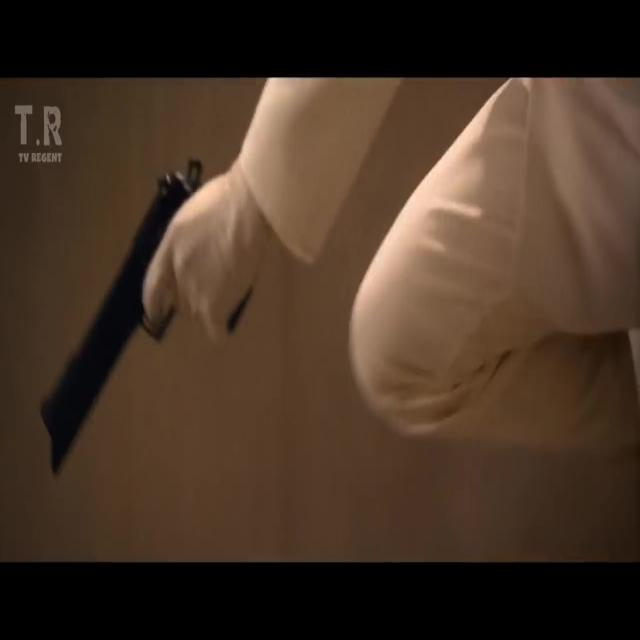Weapon: (19, 143, 263, 463)
